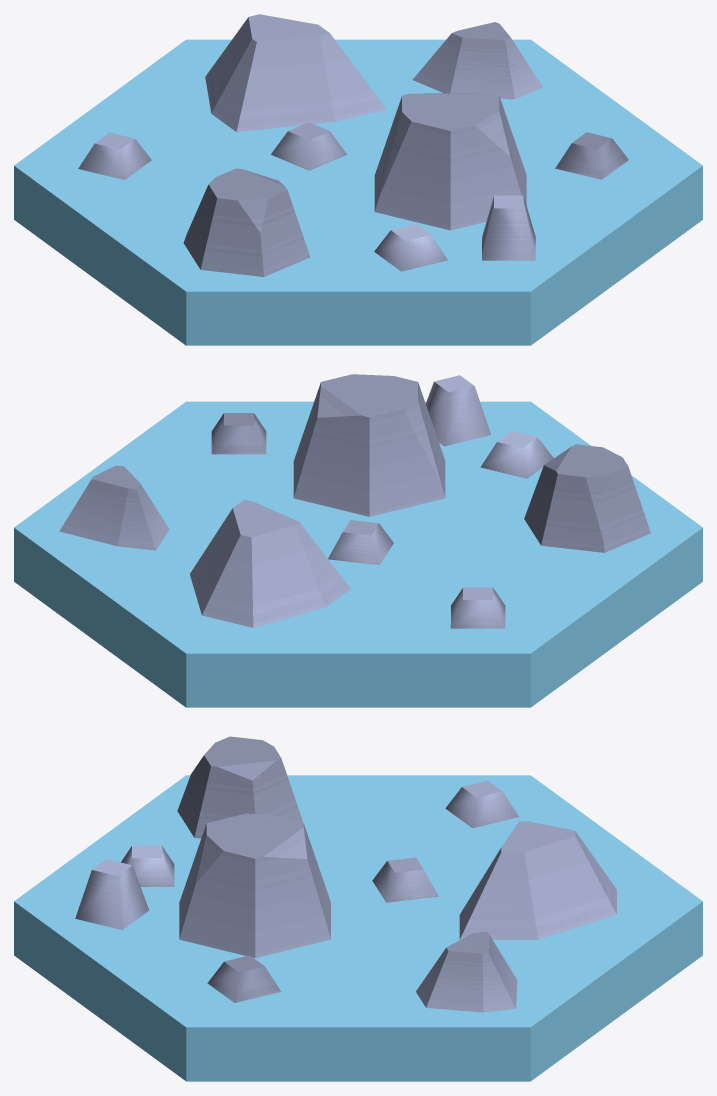
Rendered from water-rocks.glb.
3 views of the same model, one above another, from view 1: azimuth 30°, elevation 25°; view 2: azimuth 150°, elevation 25°; view 3: azimuth 270°, elevation 25° (orthographic).
Visible parts, largest first — view 1: water-rocks; view 2: water-rocks; view 3: water-rocks.
Boxes of the visible parts, x1=… form: water-rocks: x1=14, y1=14, x2=702, y2=345; water-rocks: x1=14, y1=374, x2=702, y2=707; water-rocks: x1=14, y1=736, x2=702, y2=1081.
Size of the model in its own units: 1 by 0.2593 by 1.15.
1 material, 1 textured.
